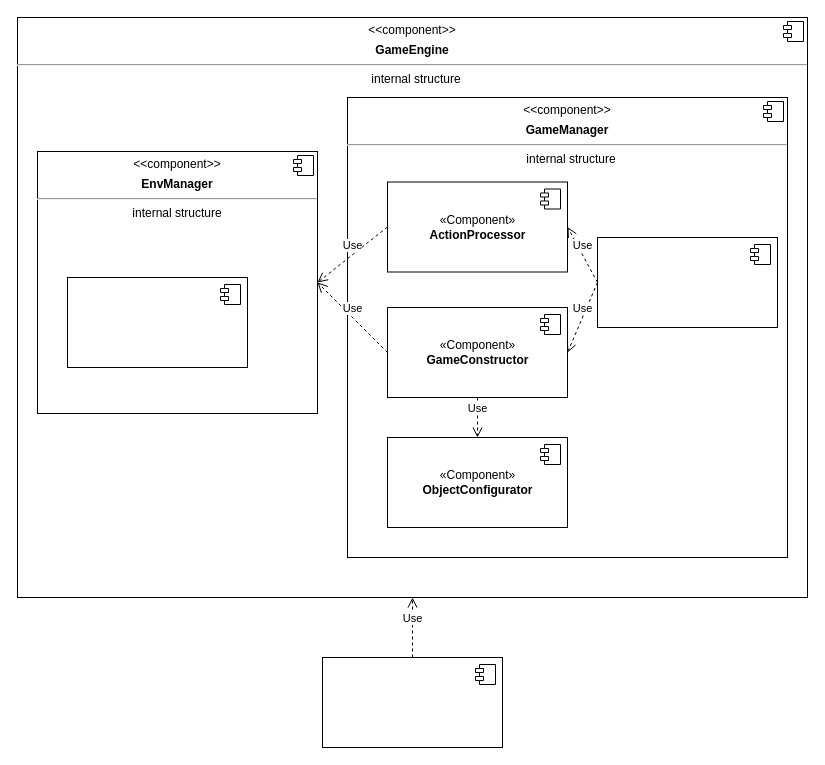
Image size: 825x765. Some labels were removed from this diagram. The centre of each missing label's shape, as x and y in pixels:
"«Component» GameProcessor" goes at [687,282].
"«Component» MapObjectsStorage" goes at [157,322].
"«Component» UI" goes at [412,702].
